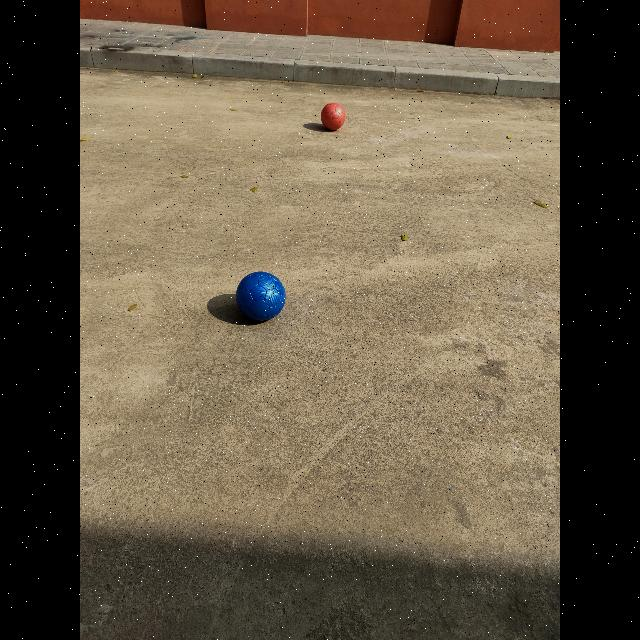B: (237, 272, 285, 320)
R: (321, 102, 346, 130)
